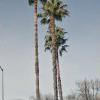Palm tree: (25, 3, 74, 99)
